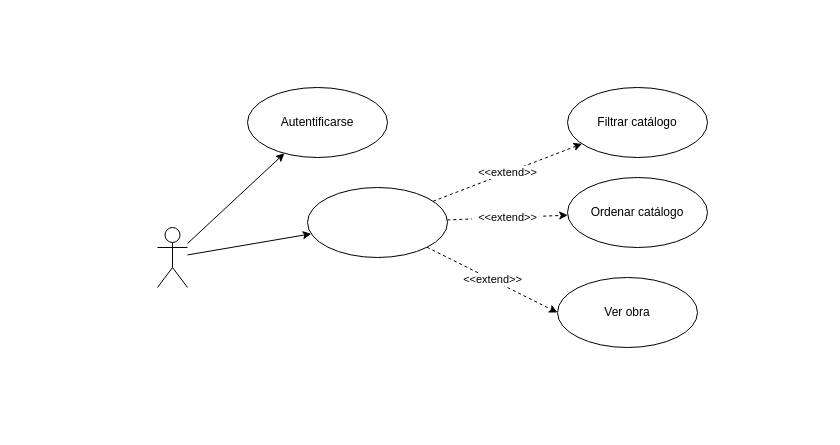
Image size: 840x445. Some labels were removed from this diagram. The shapes that lost their labels are listed below. From the top down, each one's centre as x and y in pixels, then its label:
At point 377,222: "Ver catálogo".
At point 172,257: "Usuario no autentificado".
